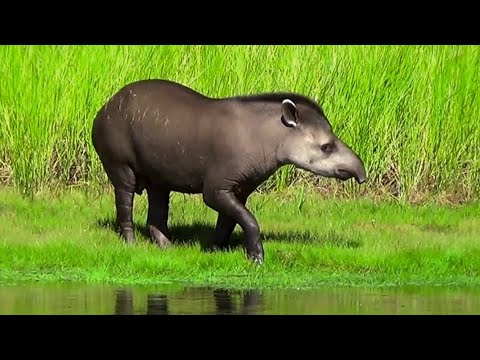Anta: (91, 73, 368, 268), (88, 73, 371, 259)
